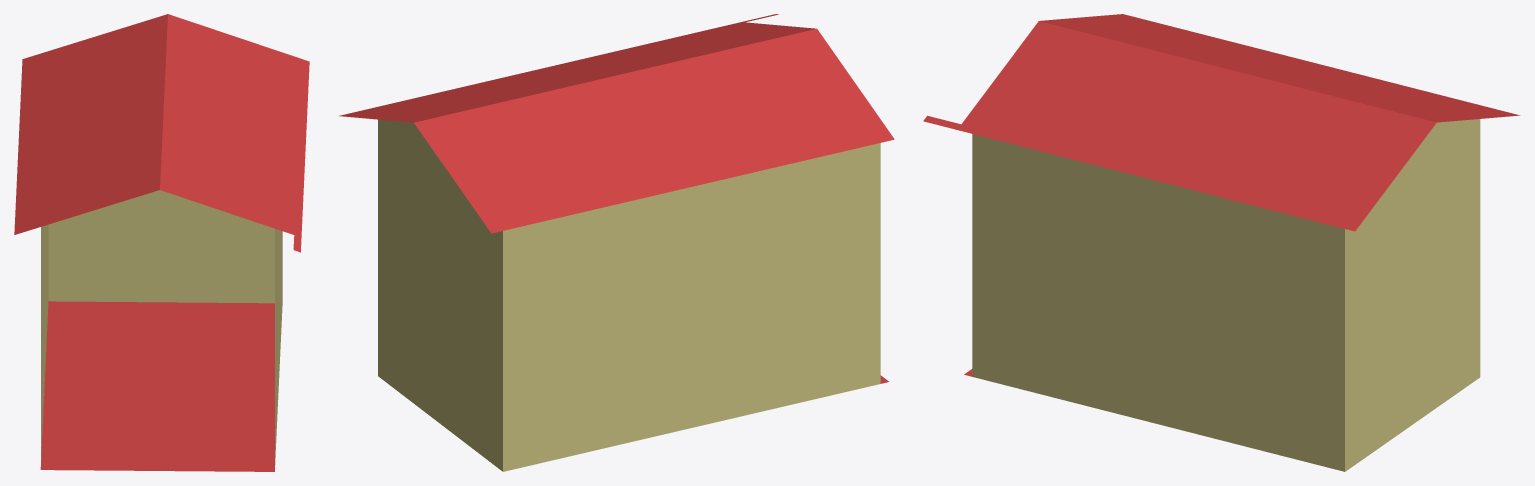
3 renders of one model, left to right at view 1: azimuth 30°, elevation 25°; view 2: azimuth 150°, elevation 25°; view 3: azimuth 270°, elevation 25°, orthographic. The views are drawn at different scales.
Parts seen in each view (by area): view 1: group_3, group_6, group_5, group_4; view 2: group_5, group_3, group_4; view 3: group_5, group_3, group_4.
Part boxes in pixels (left/top/right/bottom): group_3: left=14, top=14, right=309, bottom=252; group_6: left=40, top=301, right=274, bottom=471; group_5: left=41, top=190, right=282, bottom=464; group_4: left=15, top=17, right=309, bottom=251; group_5: left=378, top=119, right=880, bottom=471; group_3: left=339, top=14, right=894, bottom=233; group_4: left=341, top=15, right=893, bottom=231; group_5: left=972, top=119, right=1480, bottom=471; group_3: left=923, top=14, right=1520, bottom=231; group_4: left=925, top=14, right=1517, bottom=230.
Bounding box in the file's own units: 13.04 × 15.14 × 8.65.
